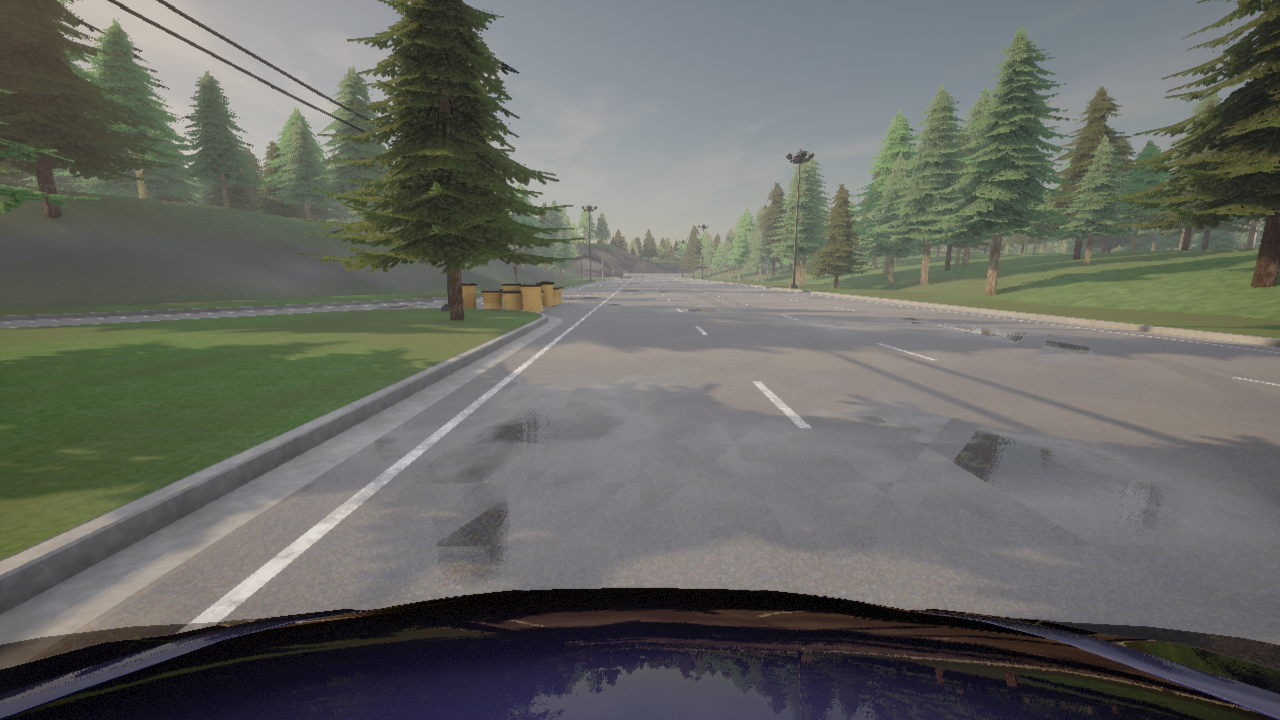cyclist: (0, 642, 1279, 719)
